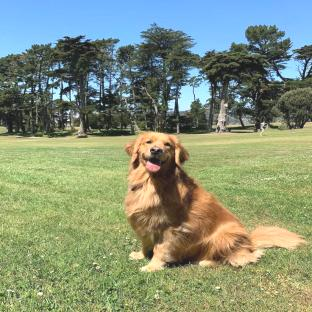Animal: (125, 132, 306, 271)
